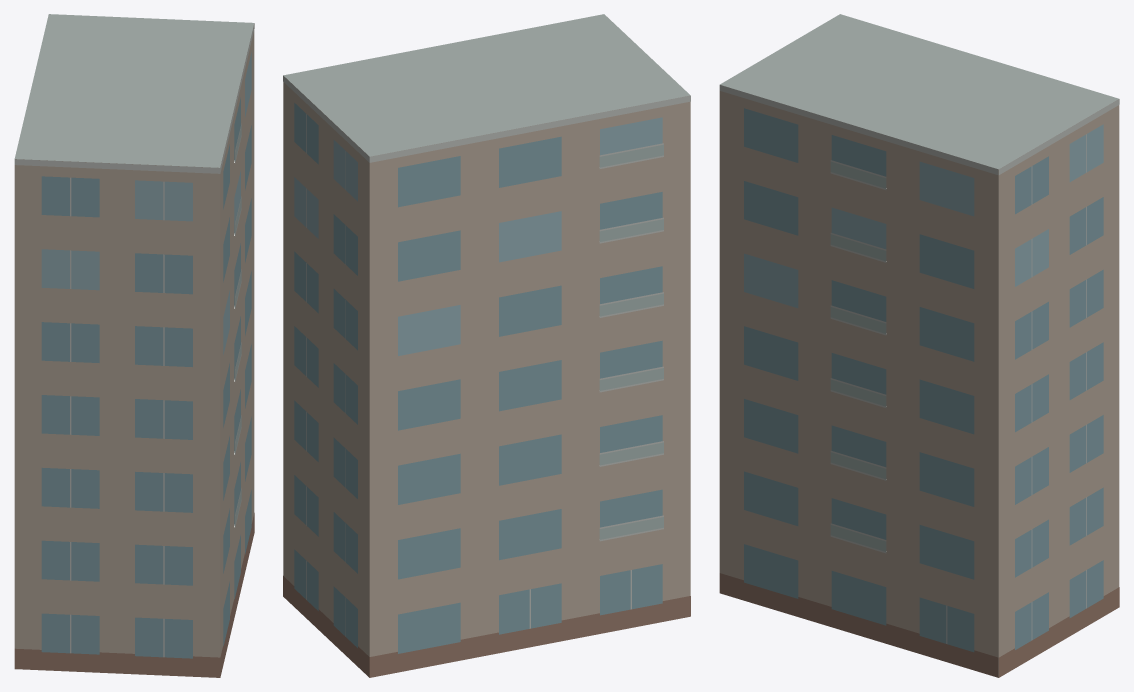
File: survey-upis-32961822.glb
3 renders of one model, left to right at view 1: azimuth 30°, elevation 25°; view 2: azimuth 150°, elevation 25°; view 3: azimuth 270°, elevation 25°, orthographic. The views are drawn at different scales.
Parts seen in each view (by area): view 1: survey-upis-32961822.tmp; view 2: survey-upis-32961822.tmp; view 3: survey-upis-32961822.tmp.
Boxes of the visible parts, x1,y1,x2,y2 form: survey-upis-32961822.tmp: [14, 14, 254, 677]; survey-upis-32961822.tmp: [283, 14, 690, 677]; survey-upis-32961822.tmp: [719, 14, 1119, 677].
Bounding box in the file's own units: 13.51 × 20.6 × 14.69.
